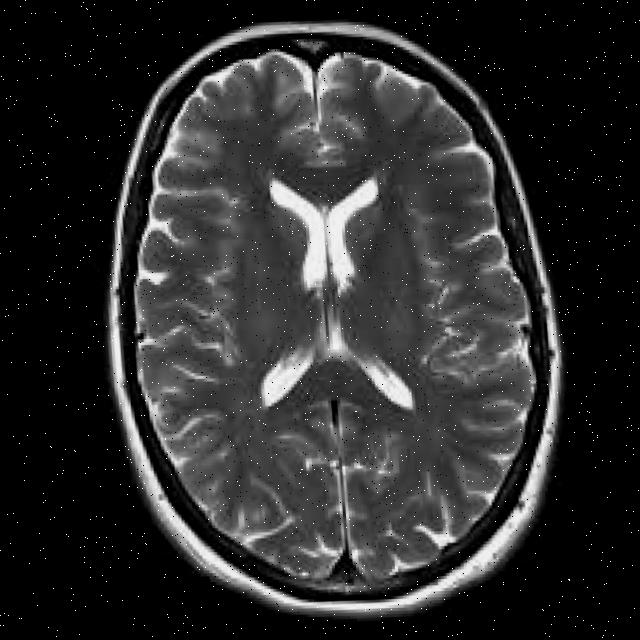NoTumor: (89, 8, 581, 624)
